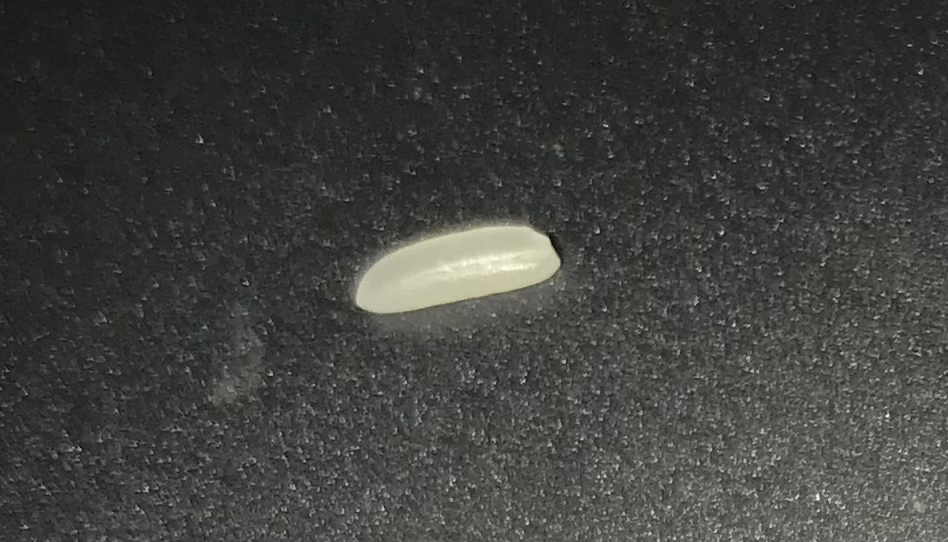Gao Thom My: (333, 213, 576, 316)
